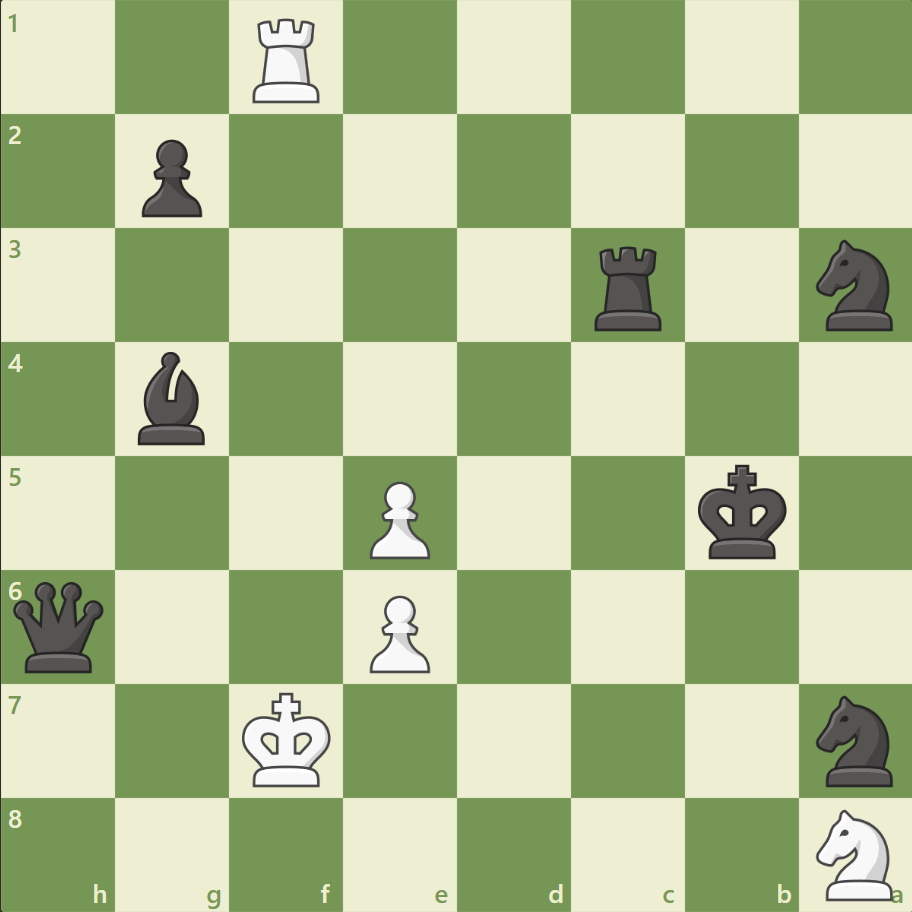K: (238, 685, 338, 793)
N: (806, 802, 903, 904)
P: (361, 586, 435, 677), (361, 473, 435, 564)
R: (246, 12, 329, 109)
b: (131, 347, 215, 449)
k: (692, 458, 792, 566)
n: (806, 688, 903, 791), (806, 234, 903, 337)
p: (133, 132, 208, 223)
q: (10, 576, 109, 676)
r: (587, 239, 670, 336)
